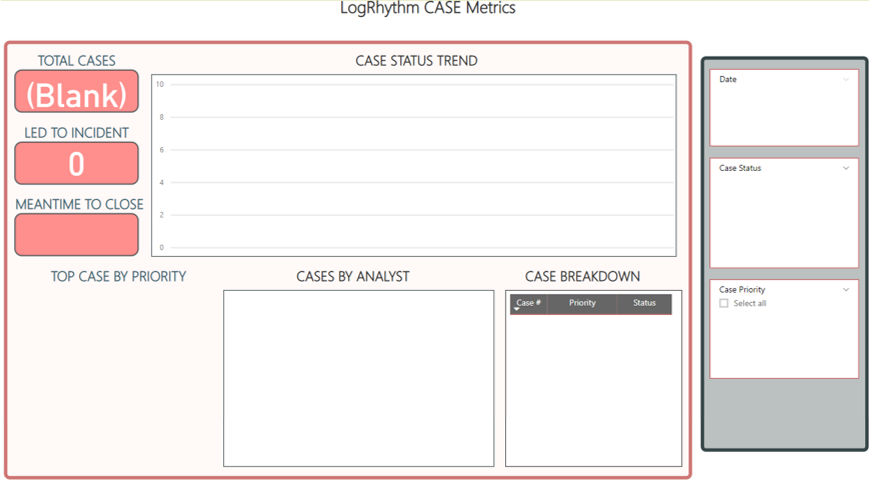

This screenshot's page, from the dashboard's own definition file:
{"tool":"powerbi","page":{"name":"Case Details","canvas":[1280,720],"ordinal":2},"visuals":[{"type":"basicShape","box":[16,72,1016,648],"z":0},{"type":"basicShape","box":[40,224,184,64],"z":1000},{"type":"tableEx","fields":{"Values":["Case.CaseNumber","_Priority.Priority","_CaseStatus.Status"]},"box":[752,440,256,256],"z":2000},{"type":"basicShape","box":[40,120,184,64],"z":3000},{"type":"textbox","box":[0,8,1280,48],"z":4000},{"type":"basicShape","box":[1032,96,248,584],"z":5000},{"type":"textbox","box":[240,88,768,40],"z":7000},{"type":"slicer","fields":{"Values":["CaseStatus.Status"]},"box":[1048,248,216,160],"z":8000},{"type":"slicer","fields":{"Values":["Calendar.Date"]},"box":[1048,120,216,112],"z":9000},{"type":"slicer","fields":{"Values":["_Priority.PrioritySorted"]},"box":[1048,424,216,144],"z":10000},{"type":"basicShape","box":[40,328,184,64],"z":11000},{"type":"textbox","box":[48,400,288,40],"z":12000},{"type":"textbox","box":[352,400,360,40],"z":13000},{"type":"textbox","box":[720,400,288,40],"z":14000},{"type":"textbox","box":[32,88,200,40],"z":15000},{"type":"textbox","box":[32,192,200,40],"z":16000},{"type":"textbox","box":[32,296,208,40],"z":17000},{"type":"columnChart","fields":{"Category":["Calendar.Date.Variation.Date Hierarchy.Year"],"Y":["Count(Case.CaseNumber)"],"Series":["_CaseStatus.Status"]},"box":[240,128,760,264],"z":18000},{"type":"lineChart","fields":{"Category":["Calendar.Date.Variation.Date Hierarchy.Year"],"Y":["Count(Case.CaseNumber)"],"Series":["Person.LastName"]},"box":[344,440,392,256],"z":19000},{"type":"card","fields":{"Values":["Count(Case.CaseNumber)"]},"box":[40,112,184,80],"z":20000},{"type":"card","fields":{"Values":["Case.-LedIncident"]},"box":[40,208,184,88],"z":21000},{"type":"Sunburst1445472000808","fields":{"Nodes":["_Priority.Priority","Person.LastName"],"Values":["Count(Case.CaseNumber)"]},"box":[40,432,296,272],"z":22000}]}

Visuals, with their boxes in screenshot pixels (x1, y1, x2, y2), scaled from the page's 1280x720 canvas onto the 874x481 screenshot:
basicShape: {"left": 11, "top": 48, "right": 705, "bottom": 480}
basicShape: {"left": 27, "top": 150, "right": 153, "bottom": 192}
tableEx - Case.CaseNumber x _Priority.Priority: {"left": 513, "top": 294, "right": 688, "bottom": 465}
basicShape: {"left": 27, "top": 80, "right": 153, "bottom": 123}
textbox: {"left": 0, "top": 5, "right": 873, "bottom": 37}
basicShape: {"left": 705, "top": 64, "right": 873, "bottom": 454}
textbox: {"left": 164, "top": 59, "right": 688, "bottom": 86}
slicer - CaseStatus.Status: {"left": 716, "top": 166, "right": 863, "bottom": 273}
slicer - Calendar.Date: {"left": 716, "top": 80, "right": 863, "bottom": 155}
slicer - _Priority.PrioritySorted: {"left": 716, "top": 283, "right": 863, "bottom": 379}
basicShape: {"left": 27, "top": 219, "right": 153, "bottom": 262}
textbox: {"left": 33, "top": 267, "right": 229, "bottom": 294}
textbox: {"left": 240, "top": 267, "right": 486, "bottom": 294}
textbox: {"left": 492, "top": 267, "right": 688, "bottom": 294}
textbox: {"left": 22, "top": 59, "right": 158, "bottom": 86}
textbox: {"left": 22, "top": 128, "right": 158, "bottom": 155}
textbox: {"left": 22, "top": 198, "right": 164, "bottom": 224}
columnChart - Calendar.Date.Variation.Date Hierarchy.Year x Count(Case.CaseNumber): {"left": 164, "top": 86, "right": 683, "bottom": 262}
lineChart - Calendar.Date.Variation.Date Hierarchy.Year x Count(Case.CaseNumber): {"left": 235, "top": 294, "right": 503, "bottom": 465}
card - Count(Case.CaseNumber): {"left": 27, "top": 75, "right": 153, "bottom": 128}
card - Case.-LedIncident: {"left": 27, "top": 139, "right": 153, "bottom": 198}
Sunburst1445472000808 - _Priority.Priority x Person.LastName: {"left": 27, "top": 289, "right": 229, "bottom": 470}
